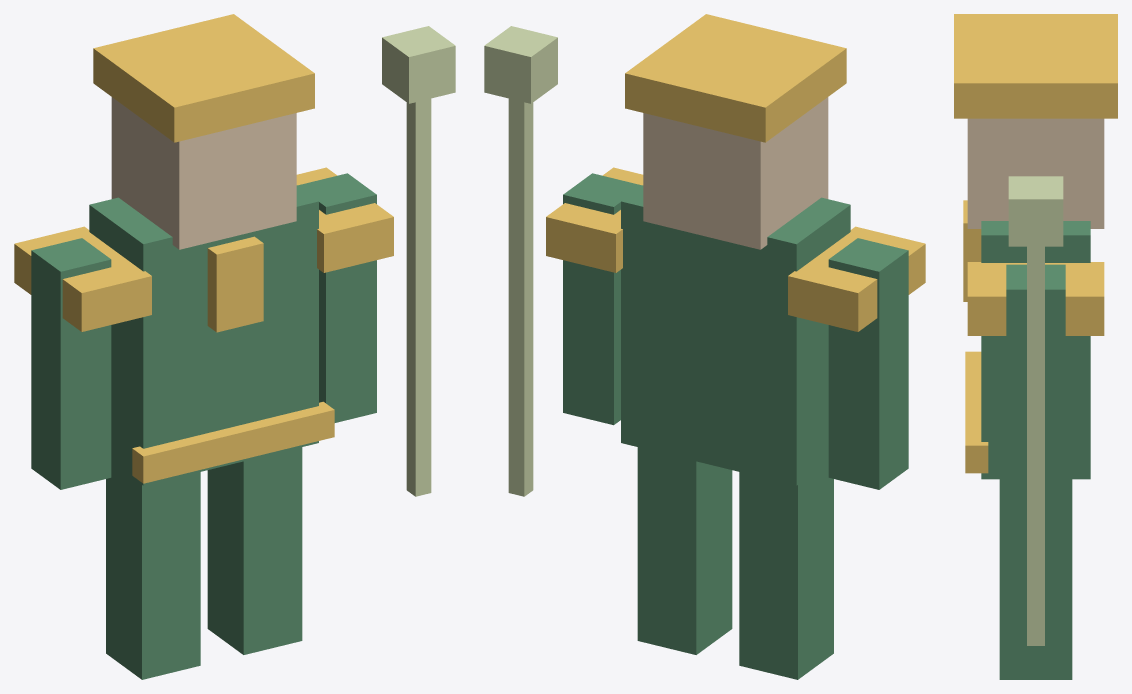
File: 16_korra_trenchmark_scout_under_elemental.glb
The picture shows the model from 3 angles, left to right: view 1: azimuth 30°, elevation 25°; view 2: azimuth 150°, elevation 25°; view 3: azimuth 270°, elevation 25°; orthographic projection.
Parts seen in each view (by area): view 1: Korra Trenchmark, Scout under Elemental; view 2: Korra Trenchmark, Scout under Elemental; view 3: Korra Trenchmark, Scout under Elemental.
Part boxes in pixels (x1,y1,x2,y2): Korra Trenchmark, Scout under Elemental: [14, 14, 455, 679]; Korra Trenchmark, Scout under Elemental: [484, 14, 925, 679]; Korra Trenchmark, Scout under Elemental: [954, 14, 1117, 679].
Bounding box in the file's own units: 1.06 × 1.5 × 0.3764.
